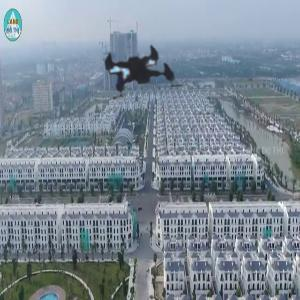drone: (71, 4, 208, 141)
